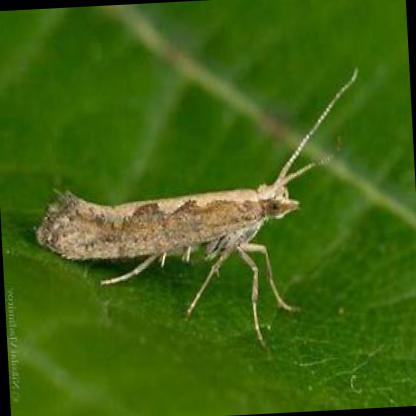plutella: (29, 61, 363, 353)
